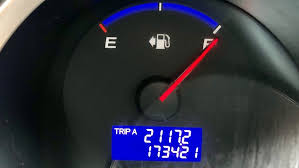Digital_Meter: (112, 127, 204, 158)
